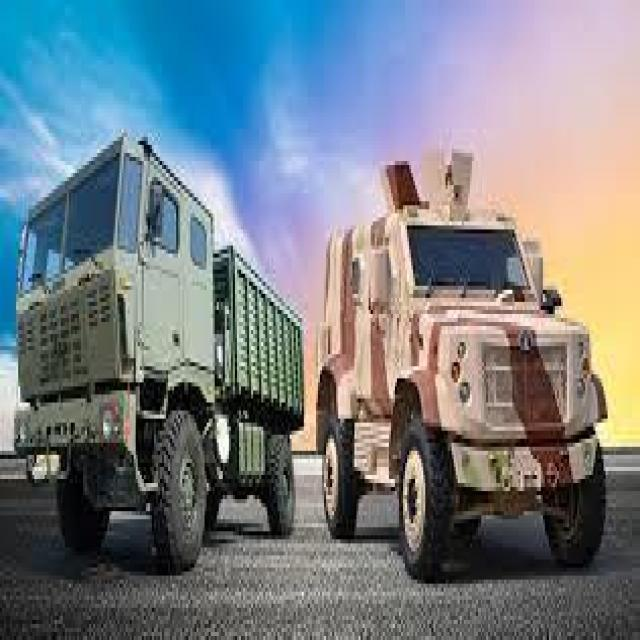Tanks: (35, 84, 307, 616), (295, 105, 576, 616)
